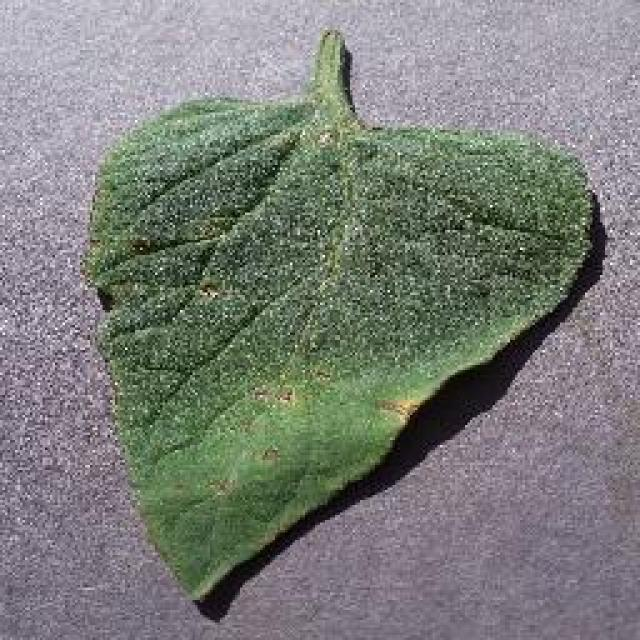Tomato___Target_Spot: (82, 30, 590, 598)
